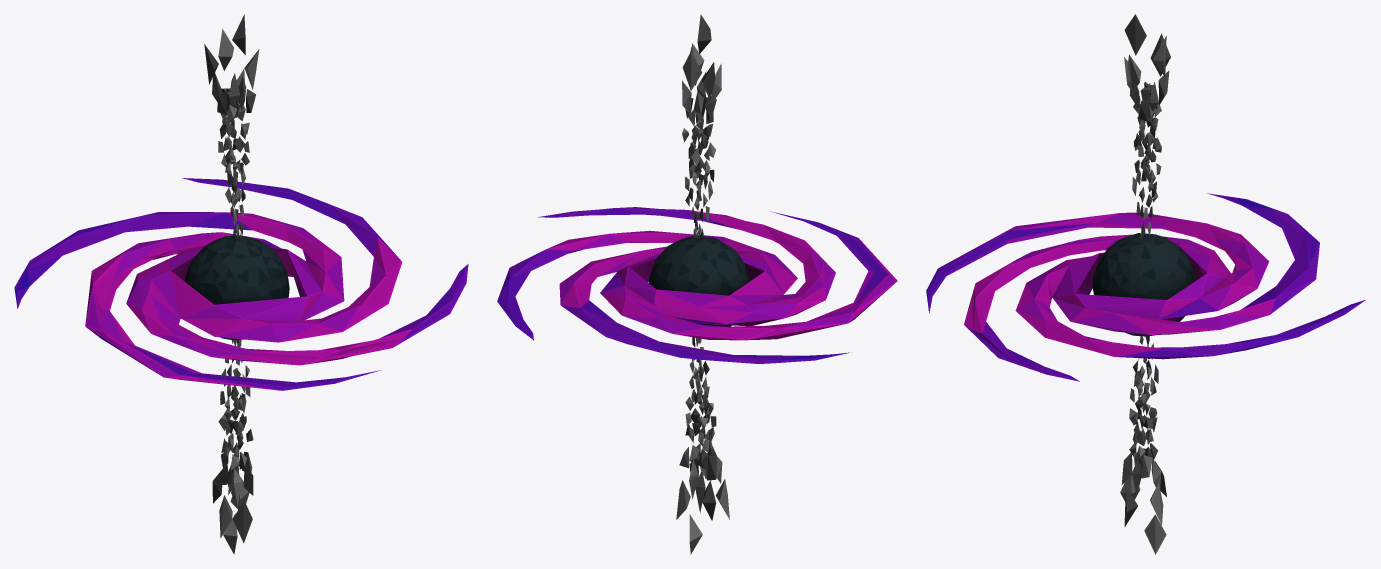
Rendered from Black hole_reforged.glb.
The picture shows the model from 3 angles, left to right: view 1: azimuth 30°, elevation 25°; view 2: azimuth 150°, elevation 25°; view 3: azimuth 270°, elevation 25°; orthographic projection. The views are drawn at different scales.
Visible parts, largest first — view 1: BlackHole_mesh; view 2: BlackHole_mesh; view 3: BlackHole_mesh.
Boxes of the visible parts, x1,y1,x2,y2 form: BlackHole_mesh: (14, 14, 468, 554); BlackHole_mesh: (497, 14, 897, 554); BlackHole_mesh: (926, 14, 1365, 554).
Bounding box in the file's own units: 30.91 × 41.78 × 30.85.
1 material, 1 textured.
